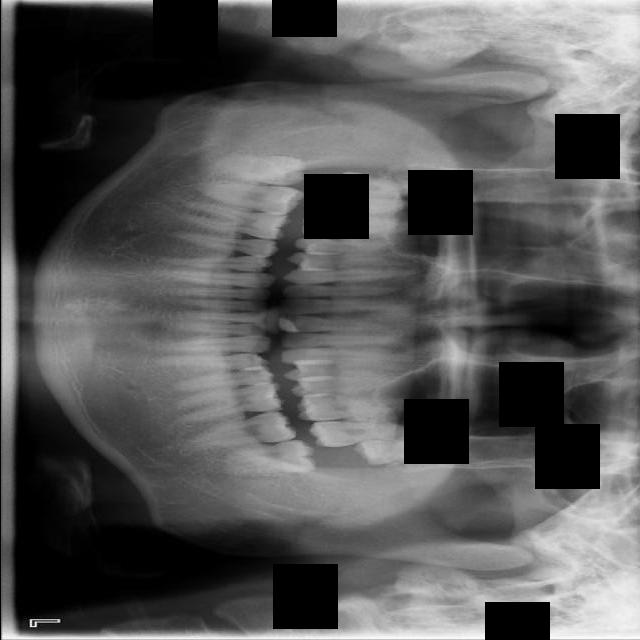3M ESPE Implant: (321, 167, 415, 206)
BioHorizons Implant: (306, 420, 420, 449)
BioLife Implant: (353, 439, 443, 466)
Biomet 3i Implant: (221, 438, 316, 479)
Blue Sky Bio Implant: (188, 409, 298, 450)
Caries: (303, 192, 409, 216)
Implant: (193, 179, 305, 217)
Keystone Dental Implant: (206, 151, 306, 187)
